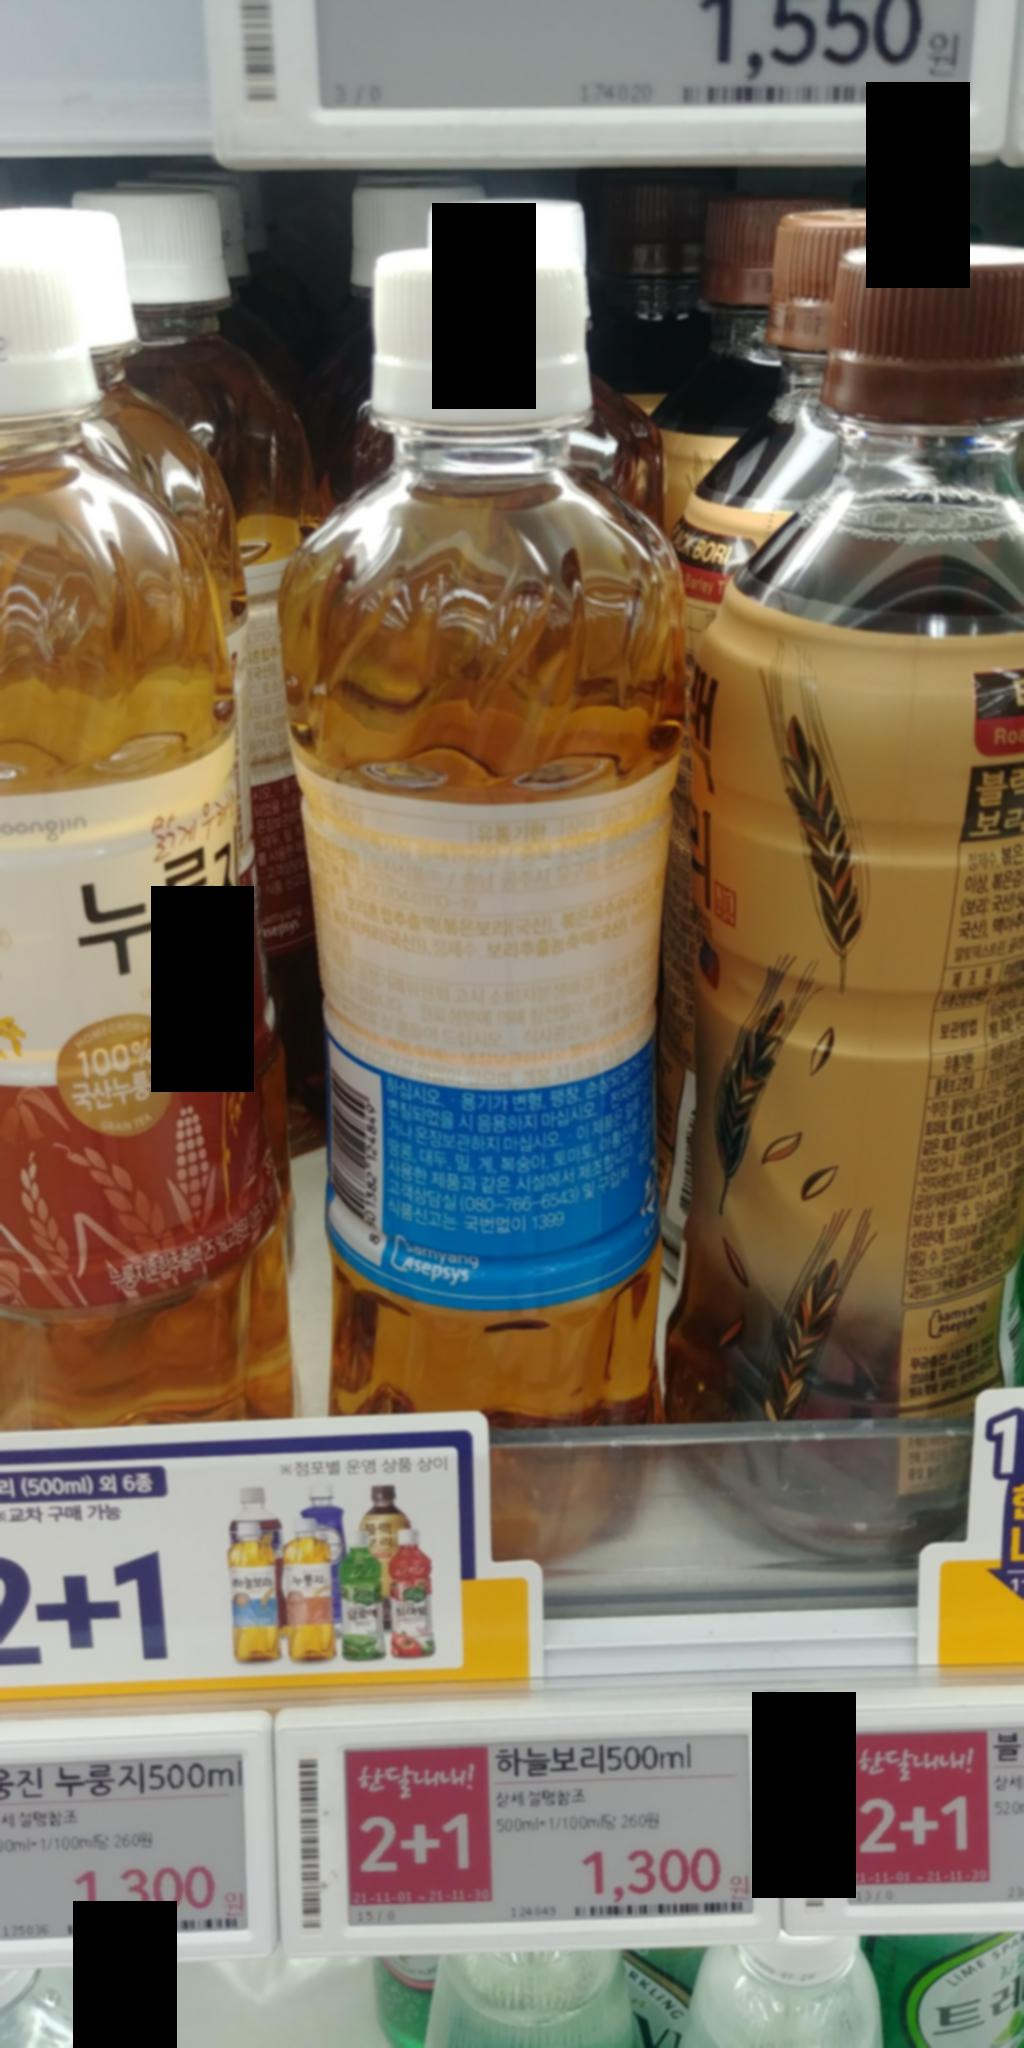haneulbori: (269, 229, 699, 1565)
